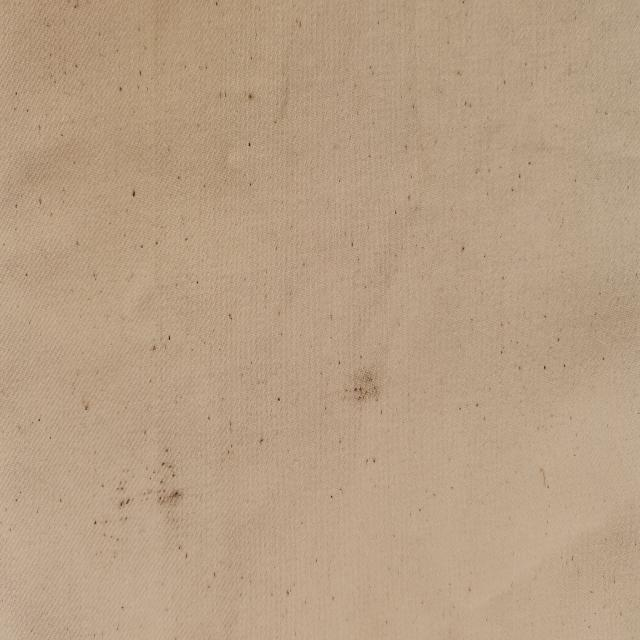taaaches: (152, 458, 186, 523), (348, 358, 386, 416), (112, 464, 136, 538)
